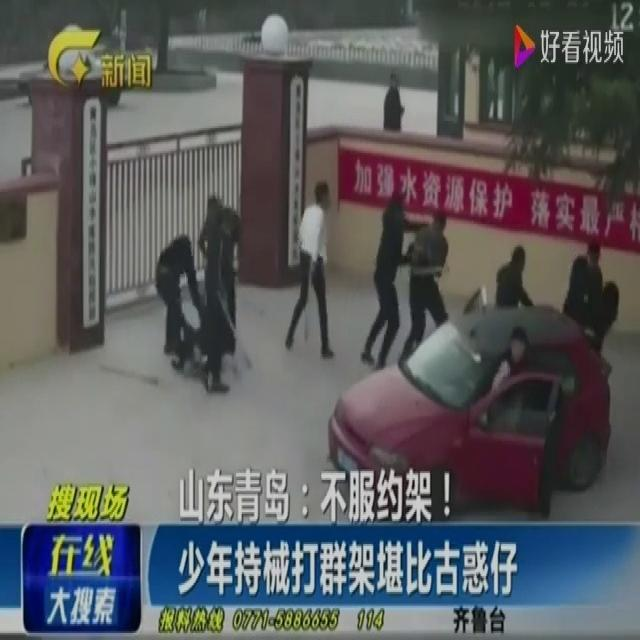fight: (152, 196, 236, 390), (362, 191, 450, 375)
non-fight: (284, 173, 333, 360)
